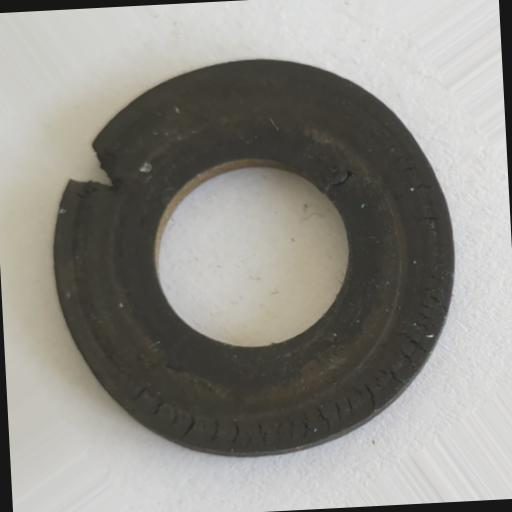defect: (66, 139, 120, 192)
